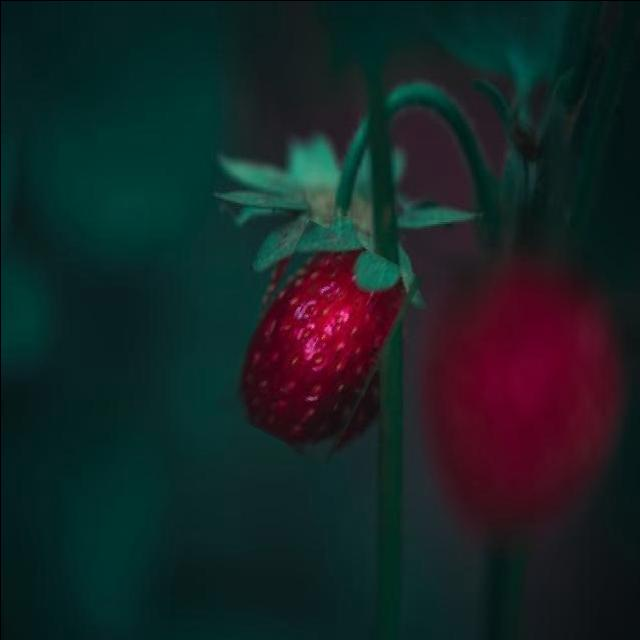strawberry: (234, 228, 402, 456)
